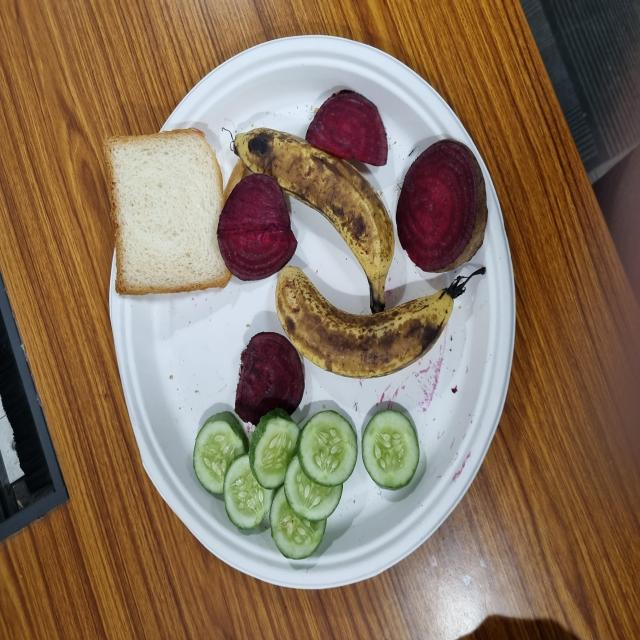banana: (260, 311, 385, 516), (196, 368, 284, 600)
cucumber: (84, 303, 175, 480), (107, 480, 178, 565), (106, 257, 174, 338), (60, 360, 116, 439)
